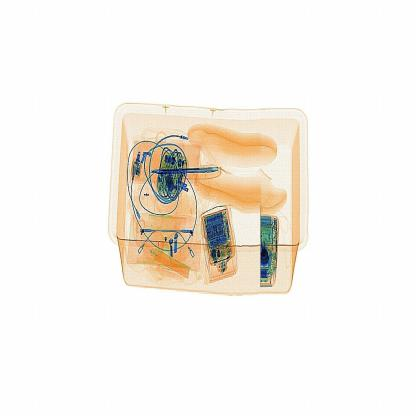pliers: (150, 167, 230, 182)
